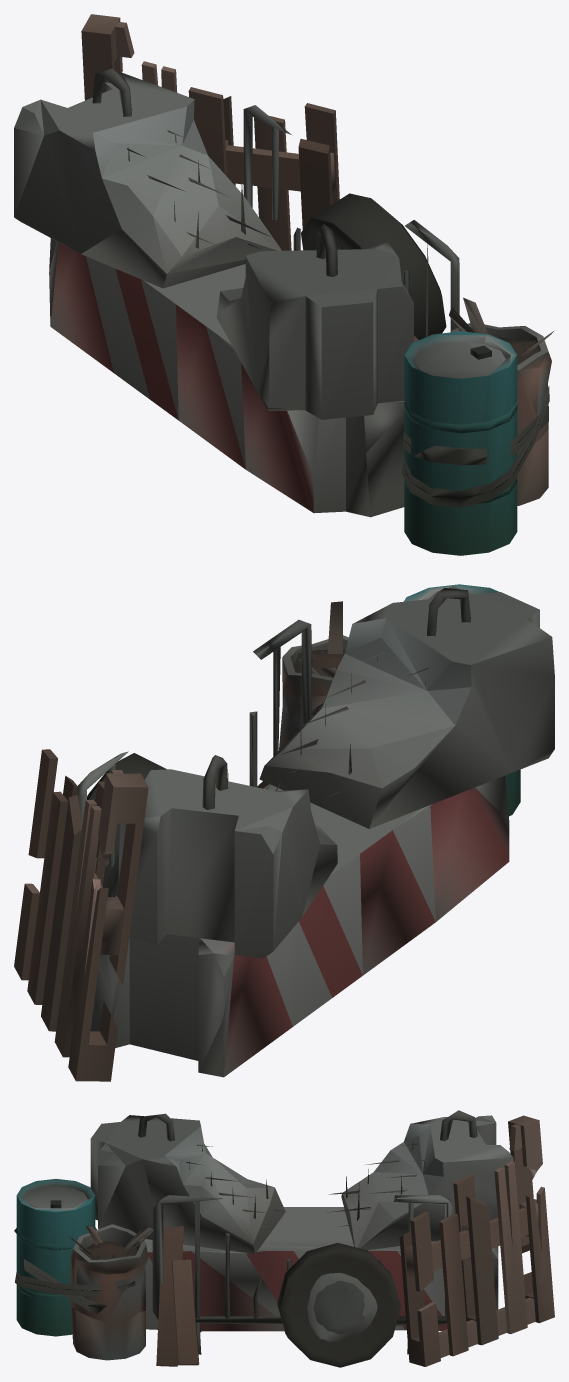
Rendered from ct_junk_barricade.glb.
The picture shows the model from 3 angles, top to bottom: view 1: azimuth 30°, elevation 25°; view 2: azimuth 150°, elevation 25°; view 3: azimuth 270°, elevation 25°; orthographic projection. The views are drawn at different scales.
Visible parts, largest first — view 1: ct_junk_barricade; view 2: ct_junk_barricade; view 3: ct_junk_barricade.
Boxes of the visible parts, left/top/right/bottom form: ct_junk_barricade: left=14, top=14, right=554, bottom=555; ct_junk_barricade: left=14, top=584, right=554, bottom=1081; ct_junk_barricade: left=14, top=1110, right=554, bottom=1367.
Bounding box in the file's own units: 1.58 × 1.41 × 3.54.
